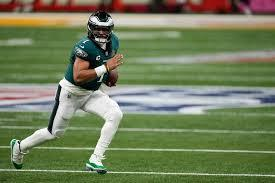americanFootball: (105, 65, 119, 88)
